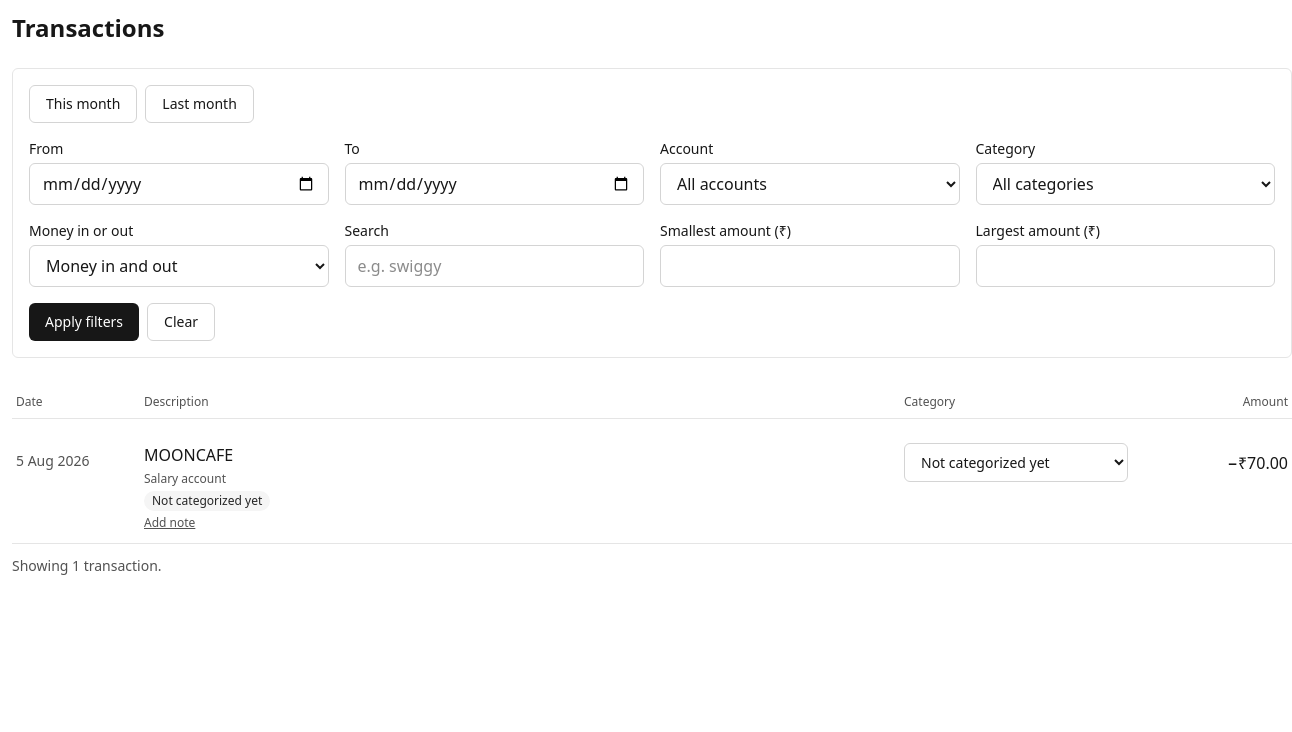
TransactionsView: changing a category › asks whether to file similar transactions too, then sends ONE request with the answer
Expected: the heading "Transactions" is shown, left=12, top=11, right=164, bottom=44
Select "Groceries" in the dropdown named "Category for MOONCAFE" at (1016, 462), box left=904, top=443, right=1128, bottom=482
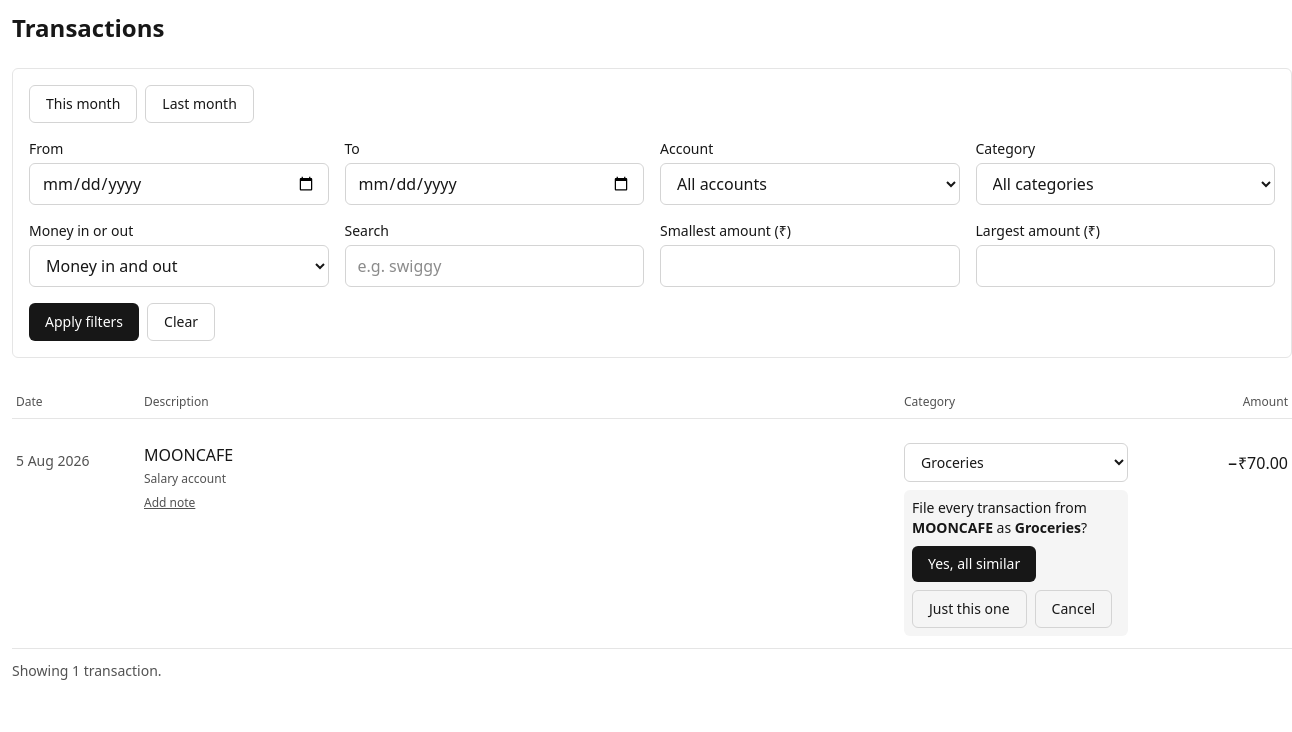
Click the button "Yes, all similar" at (974, 564), box left=912, top=546, right=1036, bottom=582
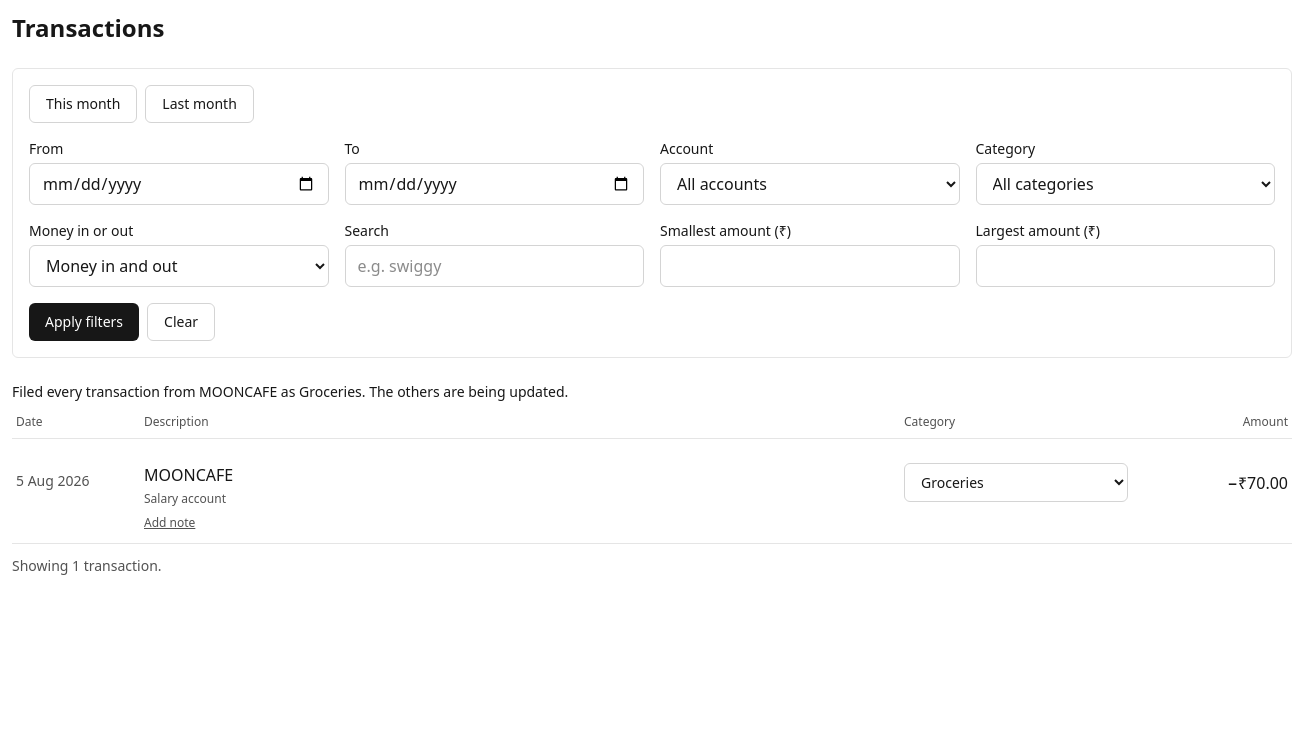
Expected: the message shows "The others are being updated.", left=12, top=382, right=568, bottom=401
